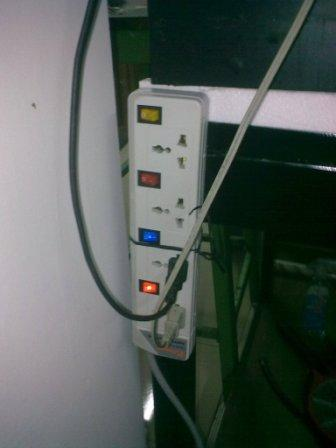Three_eye_plug: (115, 79, 217, 370)
